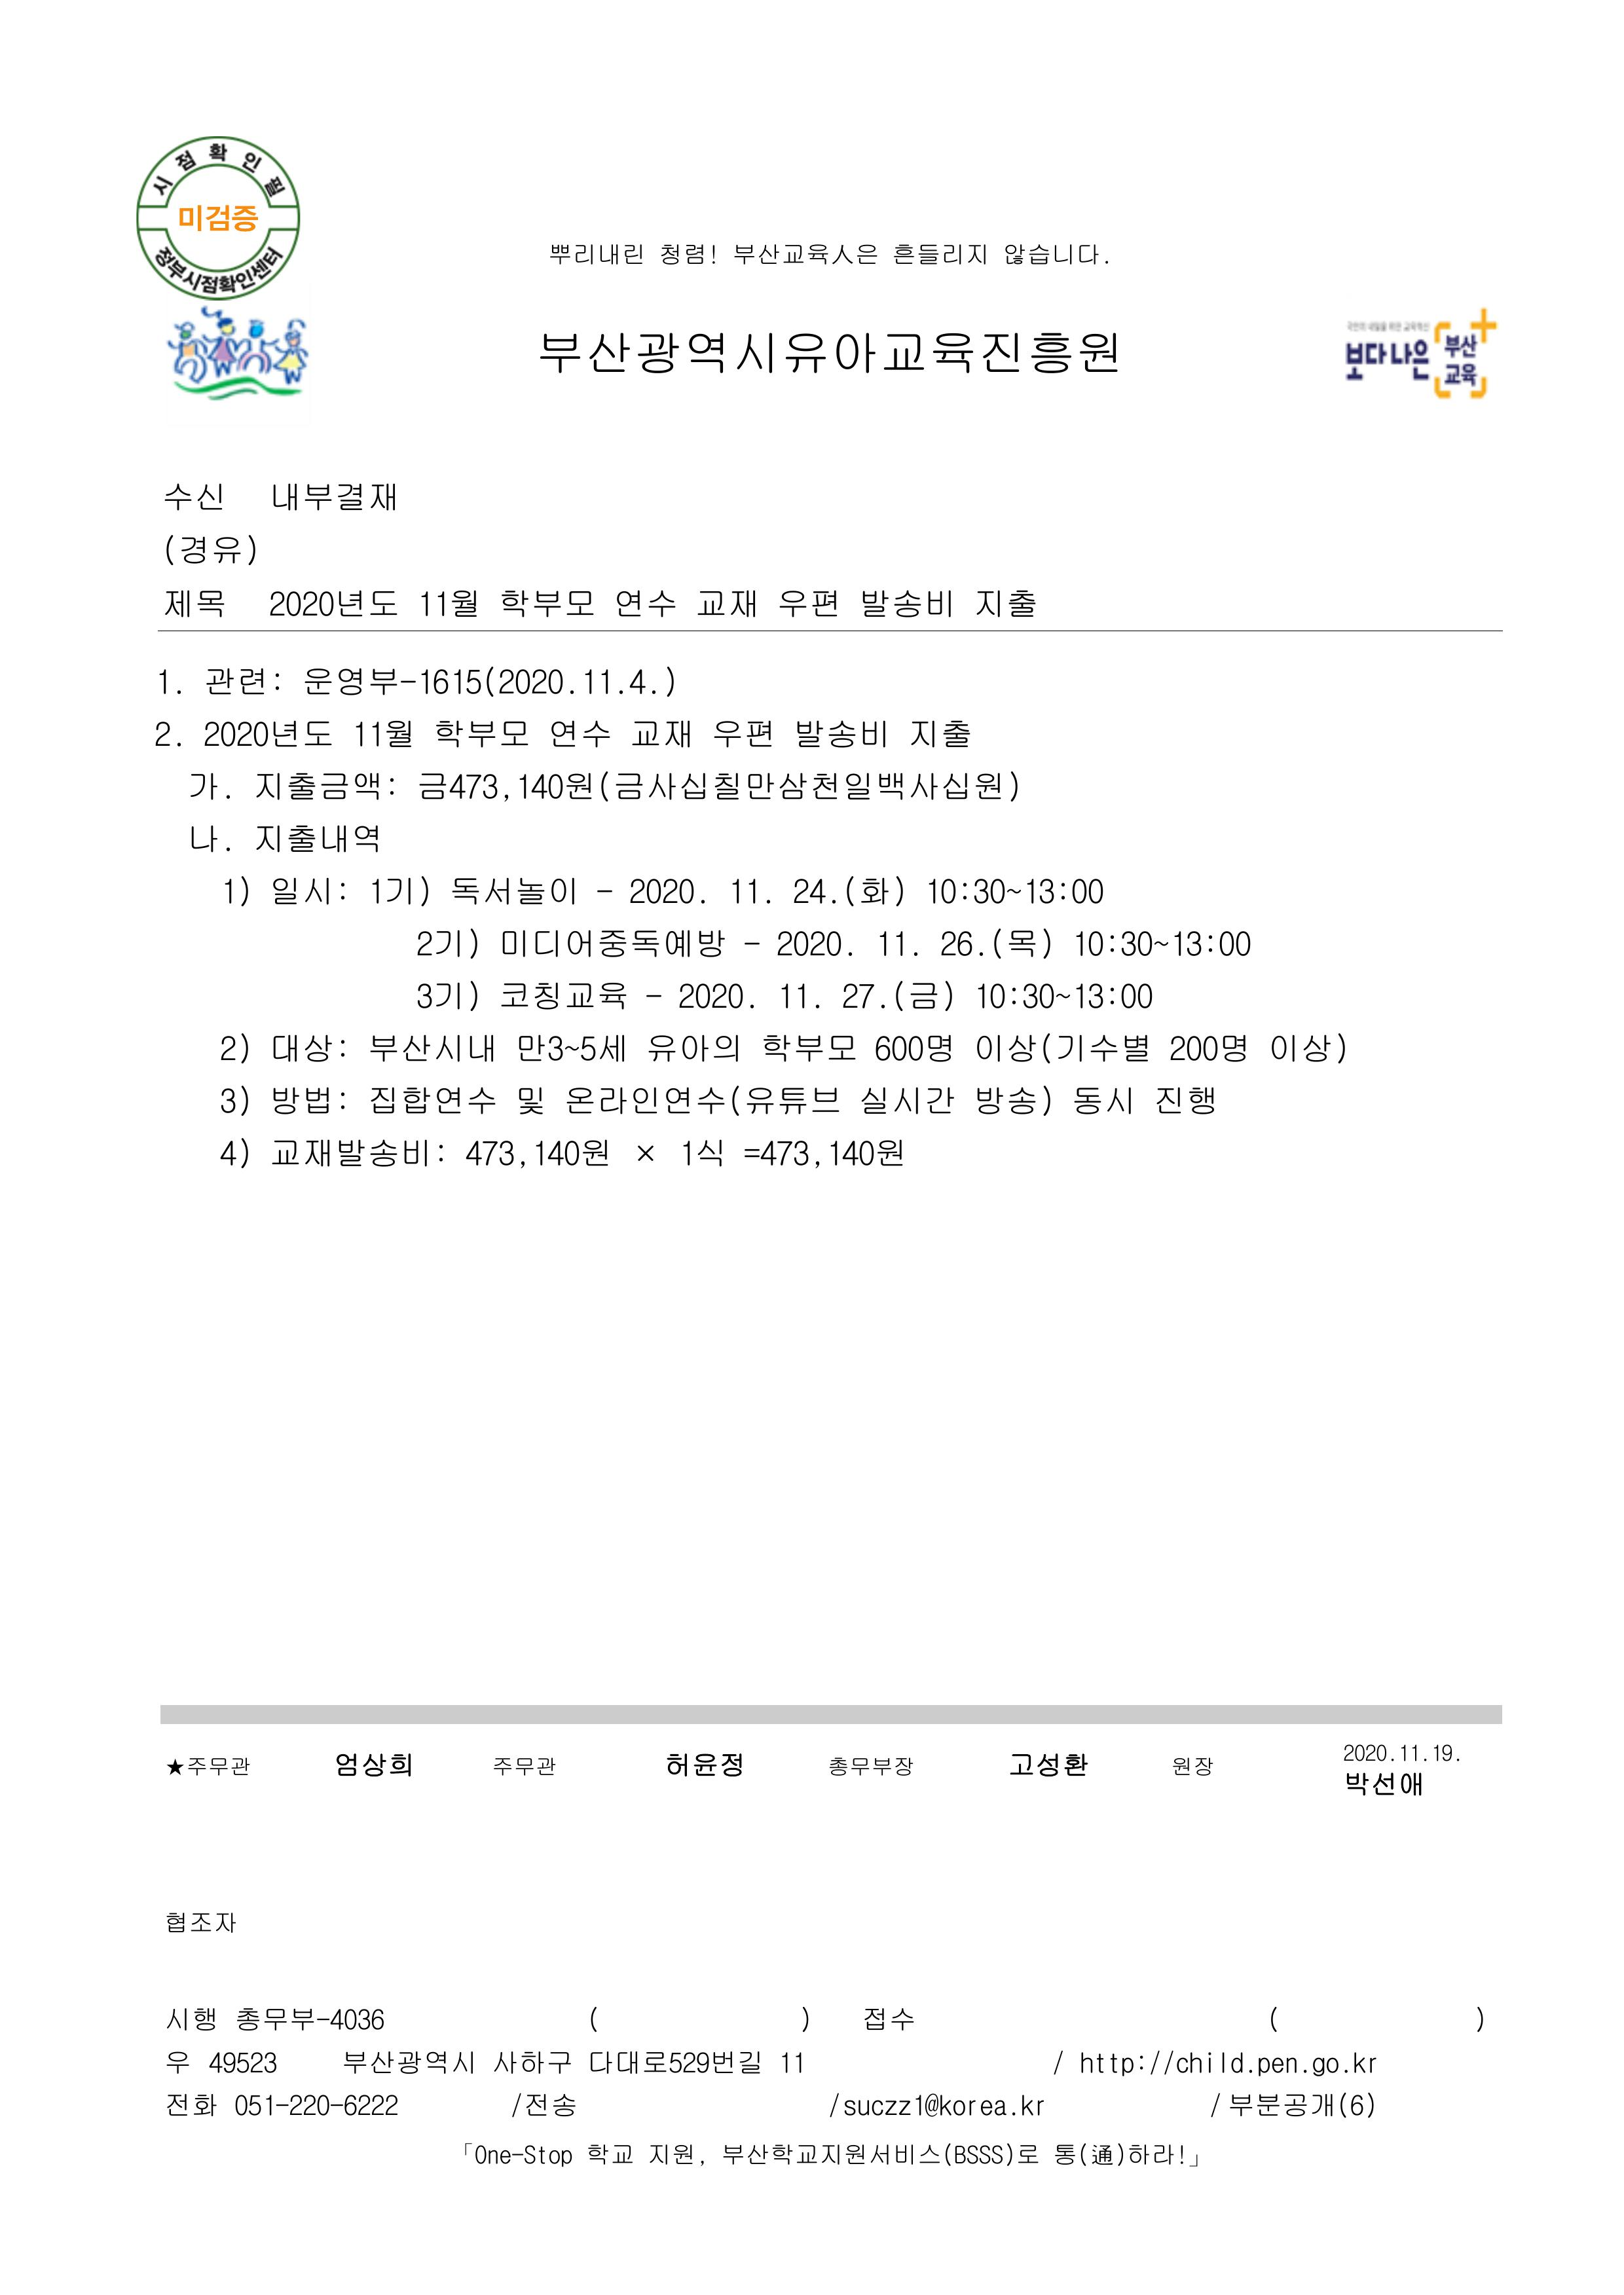t: (538, 329, 1123, 380), (596, 766, 1021, 807), (301, 662, 580, 699), (562, 1082, 838, 1118), (499, 924, 728, 961), (269, 1133, 448, 1172), (1069, 924, 1255, 961), (972, 1028, 1151, 1065), (584, 2044, 763, 2079), (724, 2140, 939, 2168), (972, 979, 1155, 1010), (232, 2000, 387, 2037), (251, 766, 397, 803), (1225, 2088, 1378, 2123), (265, 583, 397, 624), (269, 476, 397, 517), (199, 717, 332, 756), (499, 975, 627, 1014), (366, 1028, 499, 1065), (924, 872, 1058, 907), (366, 1082, 499, 1118), (838, 975, 958, 1014), (1341, 337, 1434, 387), (251, 821, 380, 856), (1051, 2137, 1190, 2168), (341, 2047, 476, 2079), (513, 1028, 627, 1065), (448, 875, 580, 907), (431, 713, 531, 754), (856, 583, 958, 620), (576, 662, 678, 699), (731, 244, 879, 269), (856, 1082, 958, 1118), (499, 583, 596, 620), (793, 717, 889, 754), (645, 1028, 742, 1065), (761, 1028, 856, 1065), (162, 531, 258, 566), (417, 766, 506, 803), (462, 2140, 578, 2168), (1000, 239, 1104, 269), (176, 200, 258, 237), (204, 662, 286, 699), (513, 766, 596, 803), (1165, 1028, 1248, 1065), (1265, 1028, 1348, 1065), (772, 924, 852, 961), (872, 1028, 953, 1065), (663, 1743, 747, 1778), (269, 1028, 348, 1065), (269, 1082, 352, 1118), (972, 1082, 1055, 1118), (838, 872, 907, 910), (269, 875, 352, 907), (1007, 1747, 1090, 1778), (334, 1750, 417, 1782), (411, 924, 480, 961), (986, 924, 1055, 961), (627, 875, 707, 907), (673, 979, 752, 1010), (531, 1137, 610, 1169), (738, 1137, 817, 1169), (824, 1137, 903, 1169), (545, 713, 613, 749), (162, 583, 227, 620), (613, 583, 678, 620), (773, 583, 838, 620), (907, 717, 972, 754), (548, 244, 645, 269), (972, 583, 1035, 620), (348, 717, 411, 754), (1069, 1082, 1134, 1118), (1151, 1082, 1216, 1118), (1076, 2047, 1148, 2079), (417, 583, 476, 620), (828, 1754, 917, 1778), (366, 875, 434, 907), (411, 979, 480, 1010), (204, 2047, 279, 2075), (506, 2089, 576, 2119), (696, 589, 761, 620), (165, 480, 227, 513), (627, 717, 691, 749), (710, 717, 773, 749), (462, 1137, 524, 1169), (935, 924, 986, 961), (490, 2044, 548, 2075), (872, 924, 921, 961), (165, 1912, 239, 1937), (944, 2144, 1018, 2168), (341, 2089, 401, 2119), (169, 1757, 251, 1778), (893, 244, 961, 269), (910, 2095, 979, 2119), (789, 875, 842, 907), (842, 2096, 914, 2119), (1158, 2047, 1216, 2075), (773, 979, 824, 1010), (1055, 875, 1104, 907), (645, 2140, 700, 2168), (228, 2089, 279, 2119), (186, 766, 227, 803), (165, 2005, 218, 2033), (861, 2005, 914, 2033), (728, 875, 773, 907), (678, 1137, 724, 1169), (1438, 329, 1480, 362), (165, 2095, 221, 2119), (490, 1757, 555, 1778), (1345, 1771, 1397, 1796), (190, 824, 232, 854), (659, 244, 707, 269), (286, 2095, 334, 2119), (1438, 358, 1478, 387), (1255, 2054, 1301, 2079), (218, 1082, 251, 1116), (513, 1082, 545, 1118), (218, 875, 251, 907), (218, 1033, 251, 1065), (218, 1137, 251, 1169), (1341, 1743, 1387, 1764), (979, 2096, 1021, 2119), (589, 2144, 634, 2165), (1172, 1757, 1216, 1778), (1308, 2054, 1345, 2079), (1397, 1771, 1427, 1796), (1216, 2051, 1244, 2075), (1018, 2096, 1048, 2119), (156, 720, 179, 749), (965, 244, 990, 269), (1352, 2054, 1380, 2075), (156, 671, 179, 696), (634, 1144, 659, 1165), (1431, 1743, 1455, 1764), (169, 2051, 190, 2075), (1018, 2144, 1040, 2165)
